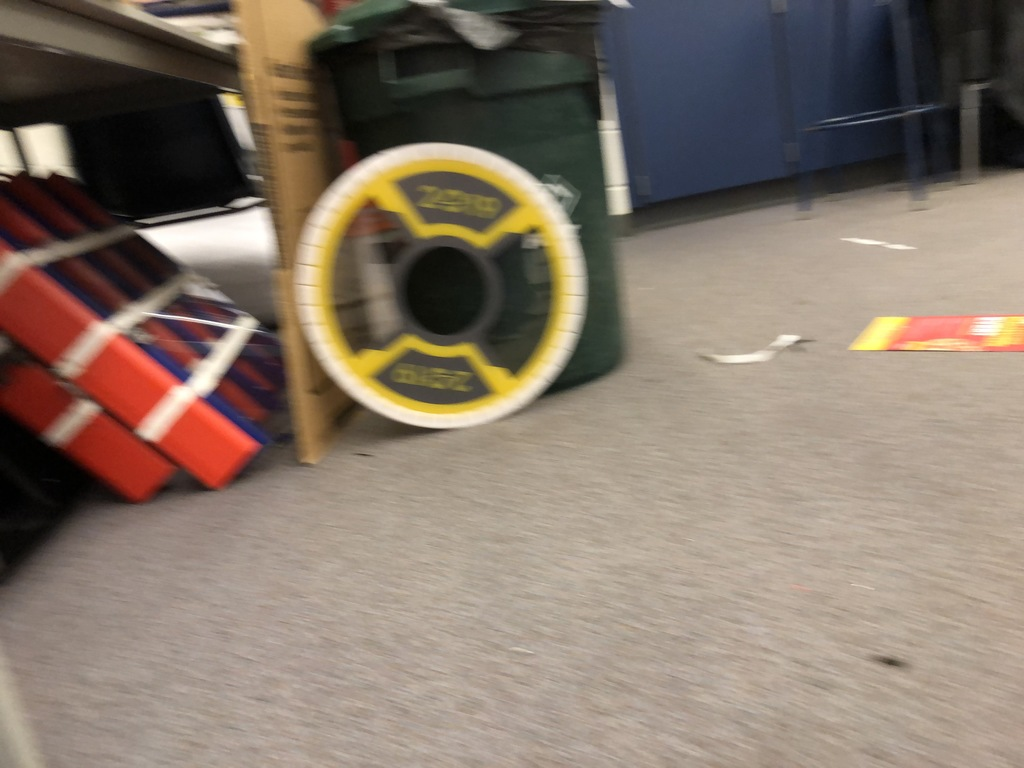hatch_panel: (289, 134, 595, 446)
